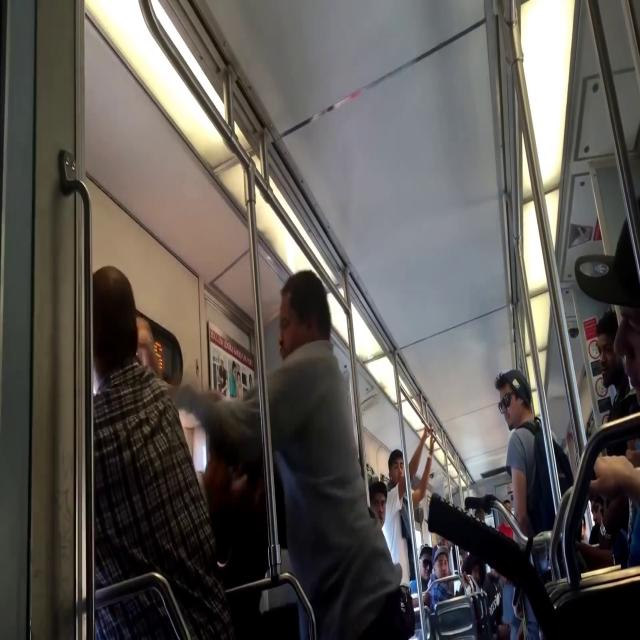non_violence: (492, 367, 571, 522)
violence: (95, 261, 376, 640)
